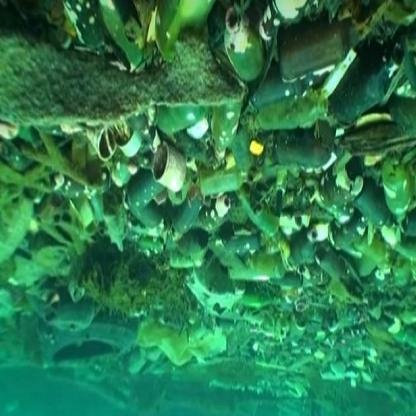gbottle: (186, 134, 272, 199), (222, 12, 268, 103)
